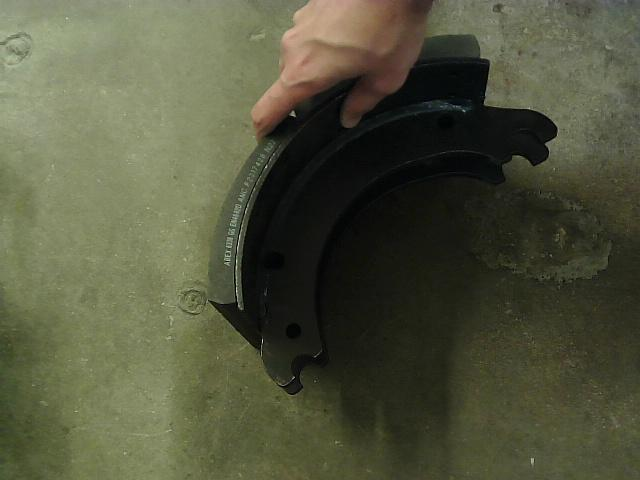brake-shoes: (205, 31, 558, 394)
